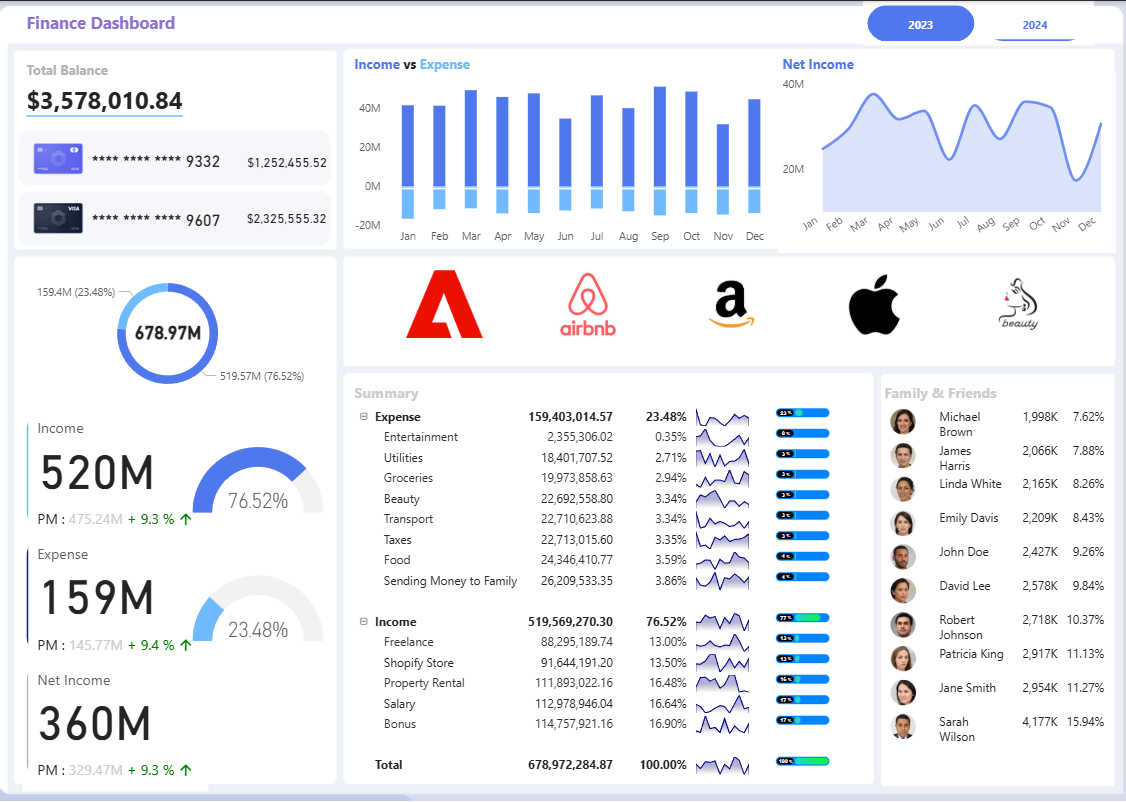

The page's visual inventory and layout, read from the dashboard file:
{"tool":"powerbi","page":{"name":"Page 1","canvas":[1280,900],"ordinal":0},"visuals":[{"type":"textbox","box":[35,88,187.2,51.9],"z":0},{"type":"textbox","box":[34.8,61.7,125.7,34.8],"z":1000},{"type":"card","fields":{"Values":["Account.CardNumber"]},"box":[98.8,160.5,172.8,40.4],"z":2000},{"type":"card","fields":{"Values":["Account.CardNumber"]},"box":[98.8,226.7,172.8,40.4],"z":3000},{"type":"card","fields":{"Values":["All Measures.Total Balance"]},"box":[271.6,162.7,121.2,38.2],"z":4000},{"type":"card","fields":{"Values":["All Measures.Total Balance"]},"box":[270.4,223.3,122.3,43.8],"z":5000},{"type":"donutChart","fields":{"Category":["dimCategory.Type"],"Y":["All Measures.Total Amount"]},"box":[34.7,294.6,326.8,156],"z":6000},{"type":"card","fields":{"Values":["All Measures.Total Amount"]},"box":[152.3,342.9,91.6,58.2],"z":7000},{"type":"cardVisual","fields":{"Data":["All Measures.Income","All Measures.Expense","All Measures.Net Income"]},"box":[34.7,450.6,209.2,435.7],"z":8000},{"type":"gauge","fields":{"Y":["All Measures.Income %"]},"box":[221.6,479.1,157.2,116.4],"z":9000},{"type":"gauge","fields":{"Y":["All Measures.Expense %"]},"box":[221.6,625.1,157.2,112.6],"z":10000},{"type":"advancedSlicerVisual","fields":{"Values":["Calendar.Year"]},"box":[978.6,0,259.2,50.5],"z":11000},{"type":"clusteredColumnChart","fields":{"Category":["Calendar.Month"],"Y":["All Measures.Income","All Measures.Expense neg"]},"box":[402.3,61.9,480.3,220.3],"z":12000},{"type":"textbox","box":[402.9,55,157.1,32.5],"z":13000},{"type":"areaChart","fields":{"Category":["Calendar.Month"],"Y":["All Measures.Net Income"]},"box":[882.6,79.2,378.8,203],"z":14000},{"type":"textbox","box":[882.6,54.5,106.5,33.4],"z":15000},{"type":"advancedSlicerVisual","fields":{"Values":["dimCategory.Subcategory"]},"box":[402.3,294.6,859.1,106.5],"z":16000},{"type":"pivotTable","fields":{"Rows":["dimCategory.Type","dimCategory.Category"],"Values":["All Measures.Total Amount","All Measures.contribution","All Measures.Total Amount  Area Sparkline","All Measures.Finance tutarial"]},"box":[402.9,423.1,586.9,453.4],"z":17000},{"type":"shape","box":[454.5,160.5,413,99.9],"z":18000},{"type":"tableEx","fields":{"Values":["Recipients.Picture","Recipients.RecipientName","All Measures.Total Amount","All Measures.Friends and Family contribution"]},"box":[997.6,423.1,264.8,453.4],"z":19000},{"type":"textbox","box":[997.6,423.1,150.4,40.4],"z":20000},{"type":"textbox","box":[402.9,423.1,87.5,32.5],"z":21000},{"type":"textbox","box":[34.8,6.7,186.3,37],"z":22000}]}

Visuals, with their boxes in screenshot pixels (x1, y1, x2, y2), scaled from the page's 1280x900 canvas onto the 1126x802 screenshot:
textbox: <bbox>31, 78, 195, 125</bbox>
textbox: <bbox>31, 55, 141, 86</bbox>
card - Account.CardNumber: <bbox>87, 143, 239, 179</bbox>
card - Account.CardNumber: <bbox>87, 202, 239, 238</bbox>
card - All Measures.Total Balance: <bbox>239, 145, 346, 179</bbox>
card - All Measures.Total Balance: <bbox>238, 199, 345, 238</bbox>
donutChart - dimCategory.Type x All Measures.Total Amount: <bbox>31, 263, 318, 402</bbox>
card - All Measures.Total Amount: <bbox>134, 306, 215, 357</bbox>
cardVisual - All Measures.Income x All Measures.Expense: <bbox>31, 402, 215, 790</bbox>
gauge - All Measures.Income %: <bbox>195, 427, 333, 531</bbox>
gauge - All Measures.Expense %: <bbox>195, 557, 333, 657</bbox>
advancedSlicerVisual - Calendar.Year: <bbox>861, 0, 1089, 45</bbox>
clusteredColumnChart - Calendar.Month x All Measures.Income: <bbox>354, 55, 776, 251</bbox>
textbox: <bbox>354, 49, 493, 78</bbox>
areaChart - Calendar.Month x All Measures.Net Income: <bbox>776, 71, 1110, 251</bbox>
textbox: <bbox>776, 49, 870, 78</bbox>
advancedSlicerVisual - dimCategory.Subcategory: <bbox>354, 263, 1110, 357</bbox>
pivotTable - dimCategory.Type x dimCategory.Category: <bbox>354, 377, 871, 781</bbox>
shape: <bbox>400, 143, 763, 232</bbox>
tableEx - Recipients.Picture x Recipients.RecipientName: <bbox>878, 377, 1111, 781</bbox>
textbox: <bbox>878, 377, 1010, 413</bbox>
textbox: <bbox>354, 377, 431, 406</bbox>
textbox: <bbox>31, 6, 194, 39</bbox>
